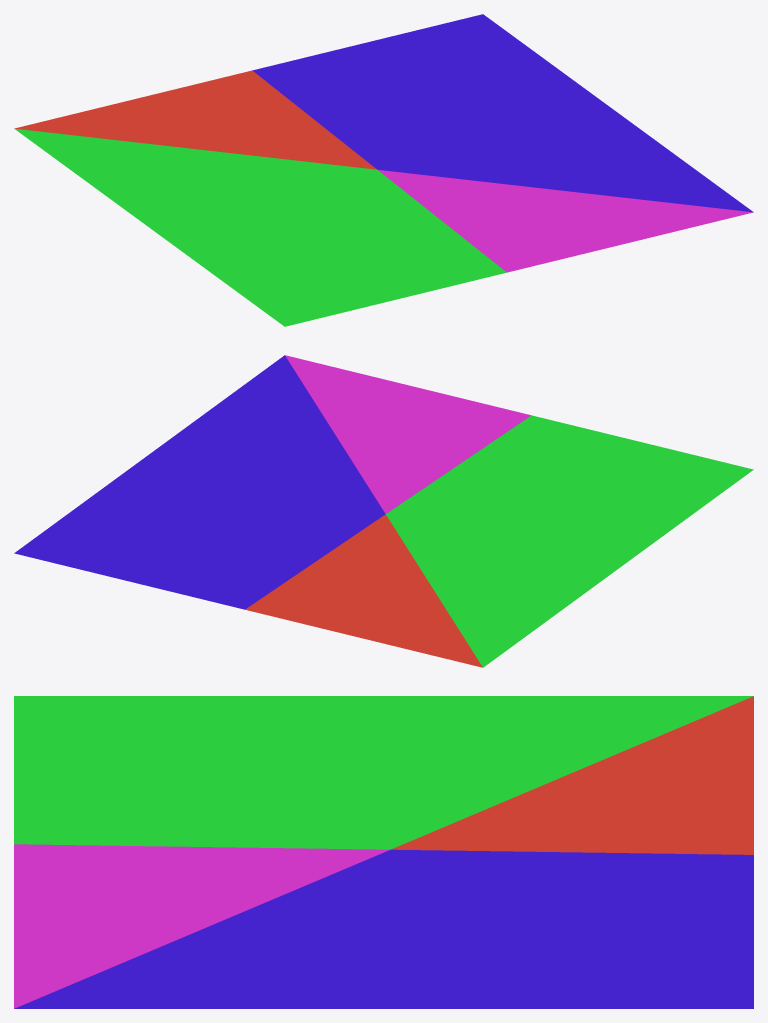
The model's file is map.fbx.
The picture shows the model from 3 angles, top to bottom: view 1: azimuth 30°, elevation 25°; view 2: azimuth 150°, elevation 25°; view 3: azimuth 270°, elevation 25°; orthographic projection. The views are drawn at different scales.
Parts seen in each view (by area): view 1: Plane; view 2: Plane; view 3: Plane.
Boxes of the visible parts, bbox=[...] form: Plane: bbox=[14, 14, 753, 326]; Plane: bbox=[14, 355, 753, 667]; Plane: bbox=[14, 696, 753, 1008].
Size of the model in its own units: 210 by 5.93e-05 by 210.
